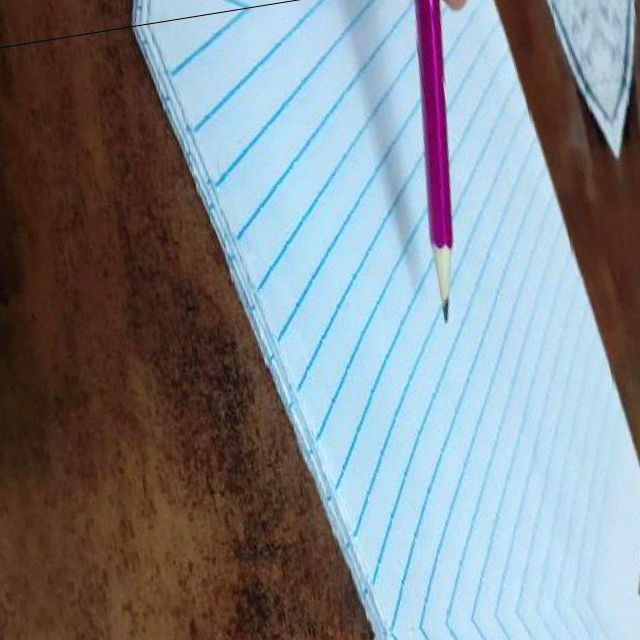pencil: (424, 243, 470, 326)
